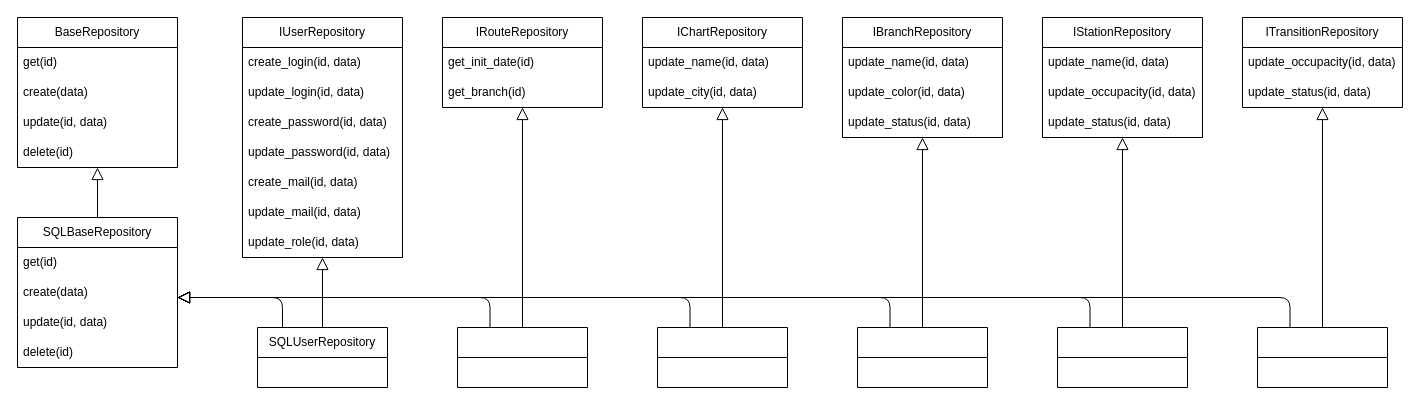
Some shapes in this 1420 by 405 pixel diagram are drawn without their labels. Each missing label, with the centre of its shape:
"SQLBranchRepository" belongs at point 922,357.
"SQLChartRepository" belongs at point 722,357.
"SQLRouteRepository" belongs at point 522,357.
"SQLStationRepository" belongs at point 1122,357.
"SQLTransitionRepository" belongs at point 1322,357.
